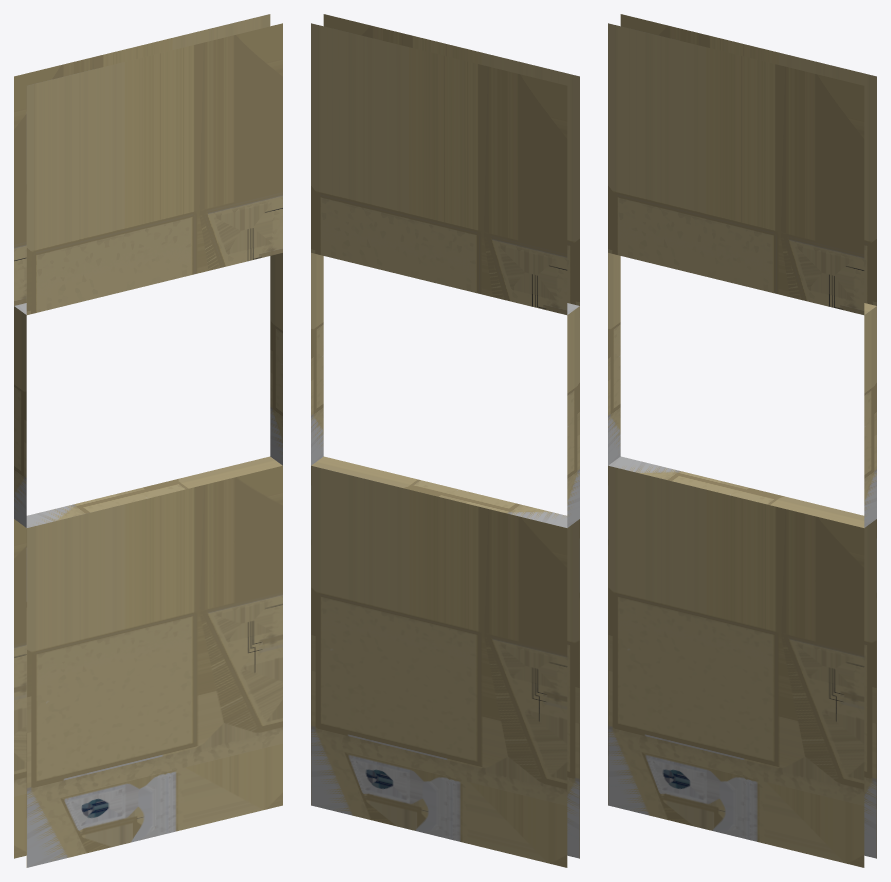
File: G_ConsoleWindowV2.fbx
The picture shows the model from 3 angles, left to right: view 1: azimuth 30°, elevation 25°; view 2: azimuth 150°, elevation 25°; view 3: azimuth 330°, elevation 25°; orthographic projection.
Parts seen in each view (by area): view 1: Window; view 2: Window; view 3: Window.
Boxes of the visible parts, left/top/right/bottom form: Window: left=14, top=14, right=282, bottom=867; Window: left=311, top=14, right=579, bottom=867; Window: left=608, top=14, right=876, bottom=867.
Bounding box in the file's own units: 94.56 × 276 × 8.11.
